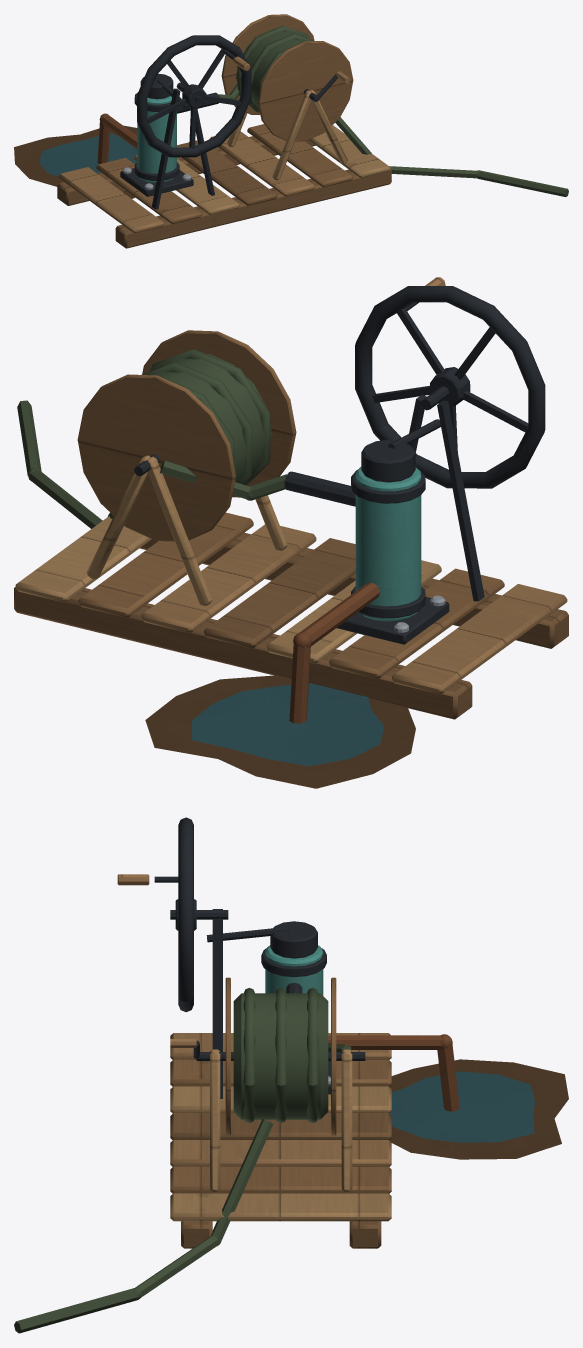
File: irrigation_pump.glb
3 renders of one model, top to bottom at view 1: azimuth 30°, elevation 25°; view 2: azimuth 150°, elevation 25°; view 3: azimuth 270°, elevation 25°, orthographic. The views are drawn at different scales.
Parts seen in each view (by area): view 1: irrigation_pump; view 2: irrigation_pump; view 3: irrigation_pump.
Part boxes in pixels (x1=…): irrigation_pump: x1=14, y1=14, x2=568, y2=248; irrigation_pump: x1=14, y1=277, x2=568, y2=788; irrigation_pump: x1=14, y1=817, x2=568, y2=1333.
Size of the model in its own units: 2.47 by 1.29 by 2.11.
Materials: 15 (15 with a texture image).
